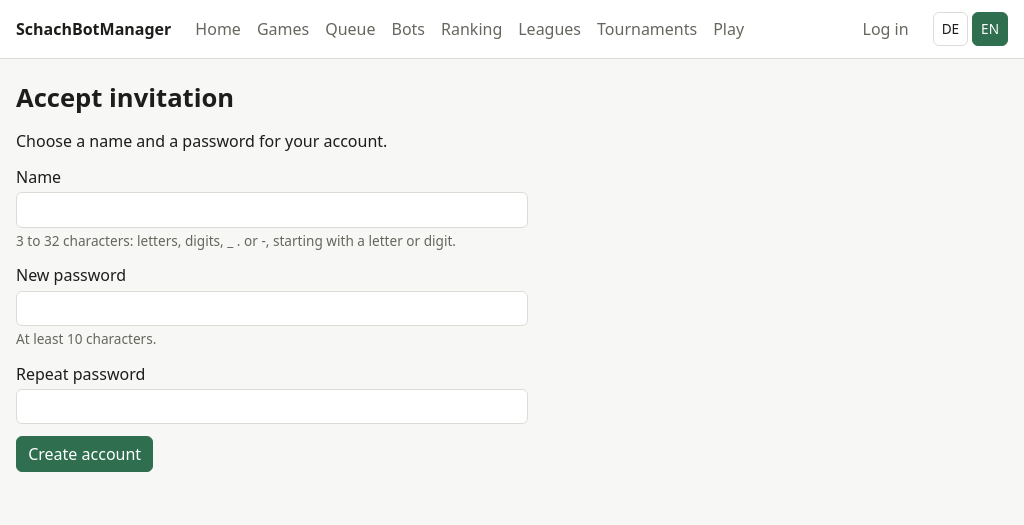
invite page › names a taken name
Type "carol" into the field labelled "Name".
click(272, 210); type("carol")  # box [16,192,528,228]
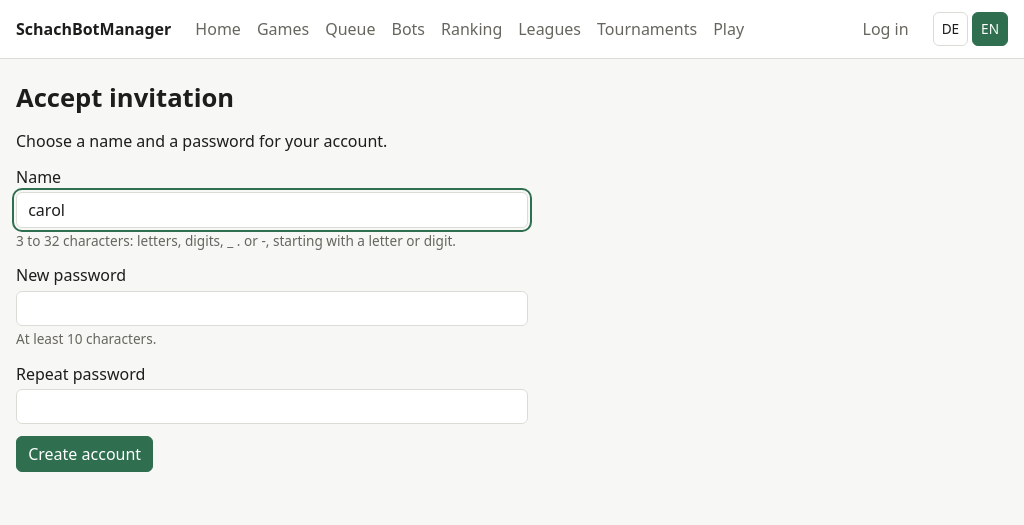
Type "long enough secret" into the password field labelled "New password At least 10 characters.".
click(272, 308); type("long enough secret")  # box [16,290,528,326]
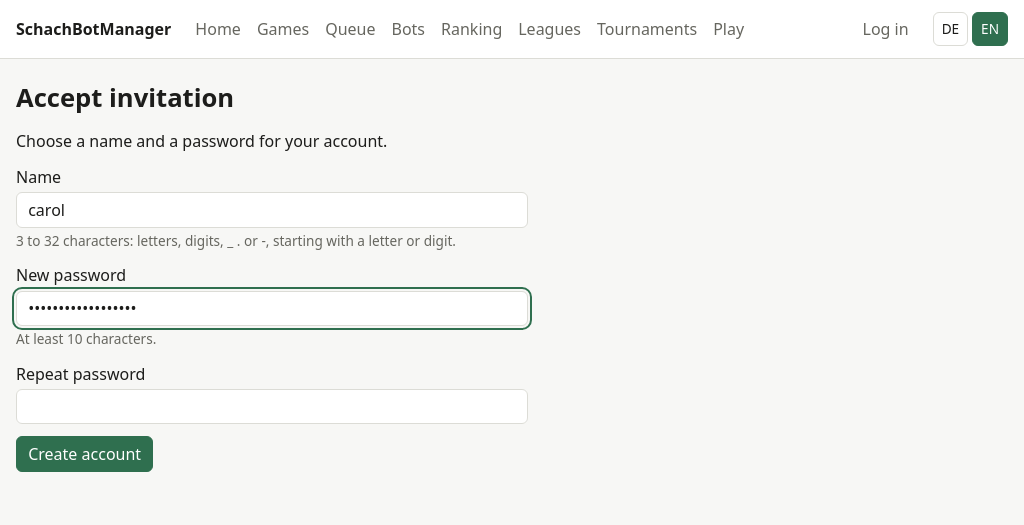
Type "long enough secret" into the password field labelled "Repeat password".
click(272, 407); type("long enough secret")  # box [16,389,528,424]
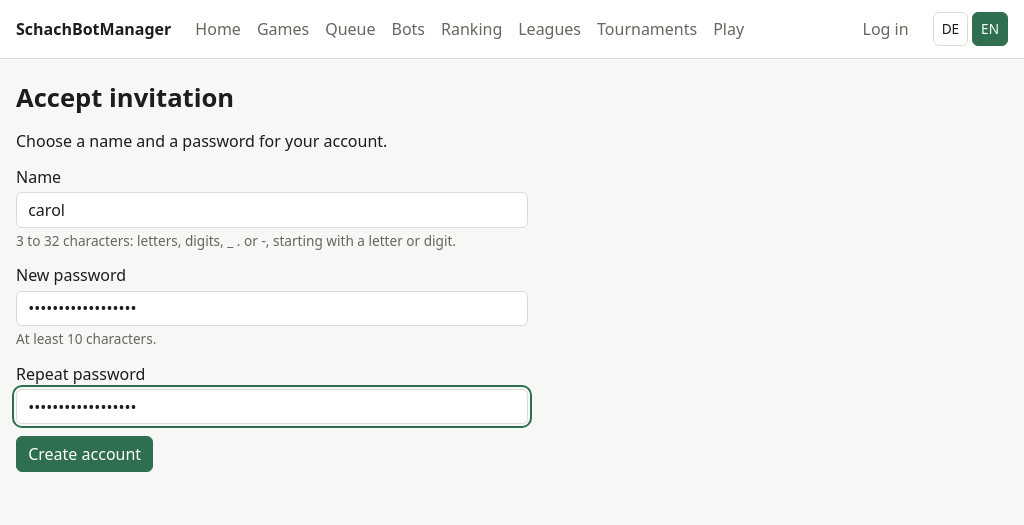
Click the button "Create account".
click(85, 454)  # box [16,436,153,472]
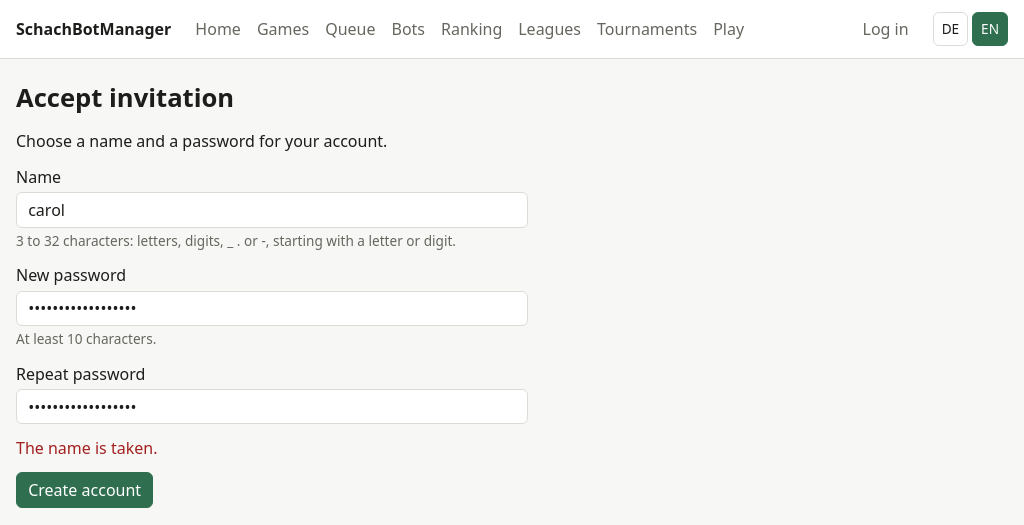
Result: the message reads "The name is taken." at [16,438,157,460]
